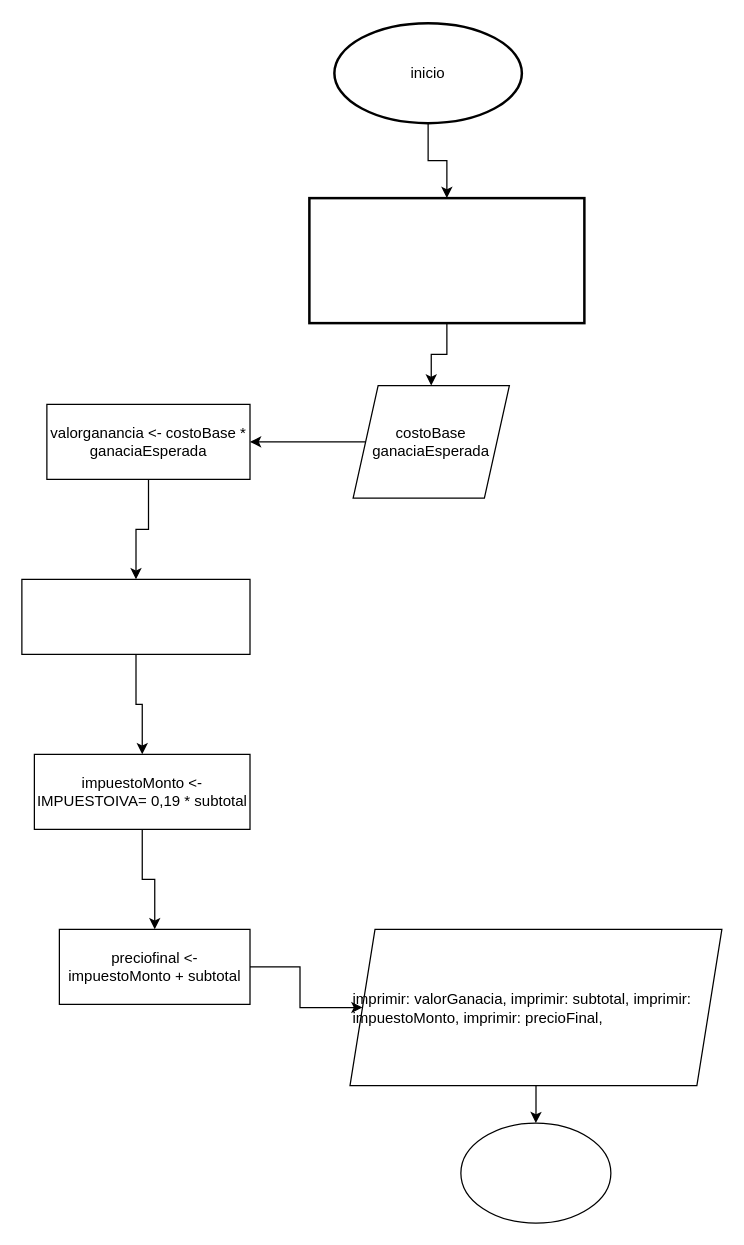
Some shapes in this 744 by 1245 pixel diagram are drawn without their labels. Here are the shapes that lost their labels. From the top down, the centre of each, then its label:
At (x=446, y=260): "costoBase, ganaciaEsperada, valorganacia, subtotal, impuestoMonto, preciofianal,".
At (x=135, y=616): "subtotal <- costoBase + valorGanancia".
At (x=535, y=1172): "fin".
